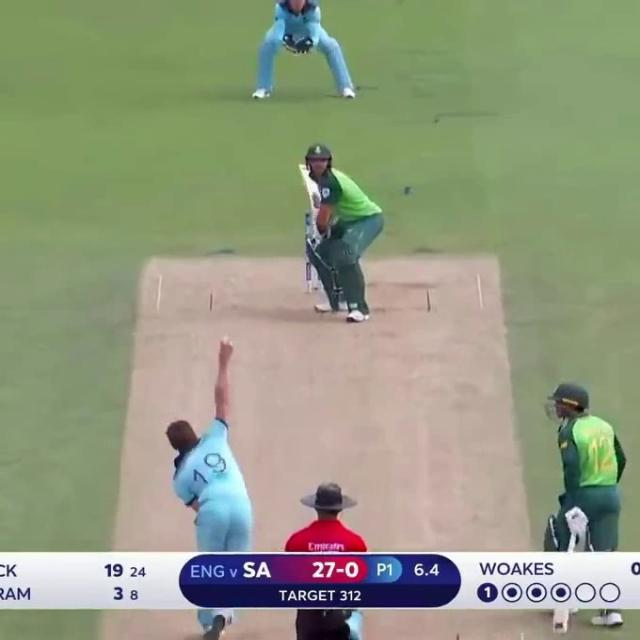bat: (300, 164, 320, 208), (552, 608, 571, 634)
toe: (552, 629, 569, 633)
